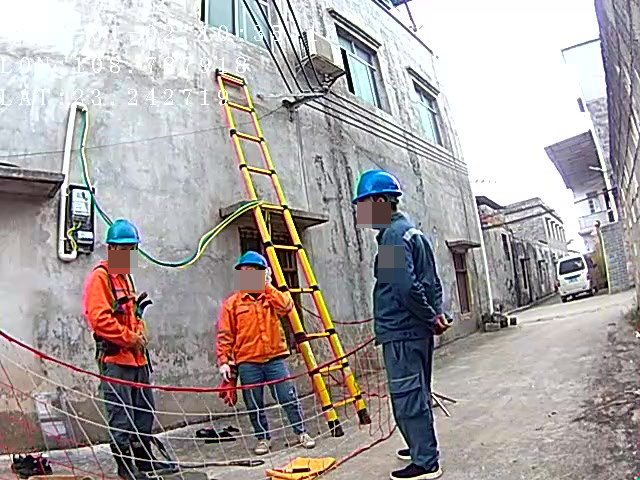downcloth: (239, 365, 306, 435)
downsuit: (102, 368, 170, 479), (381, 343, 439, 464)
glove: (217, 377, 239, 403)
halt: (351, 170, 403, 230), (102, 219, 141, 271), (234, 251, 271, 291)
hand: (134, 334, 149, 352), (434, 312, 449, 328)
inear: (372, 197, 392, 219)
person: (343, 168, 452, 479), (80, 217, 185, 480), (213, 248, 314, 445)
shoe: (110, 436, 167, 479)
sleeve: (385, 251, 404, 271)
upsuit: (369, 220, 443, 334)
wglove: (261, 266, 274, 285), (216, 363, 232, 378)
yupcloth: (219, 290, 291, 363)
yupsuit: (83, 262, 154, 363)
